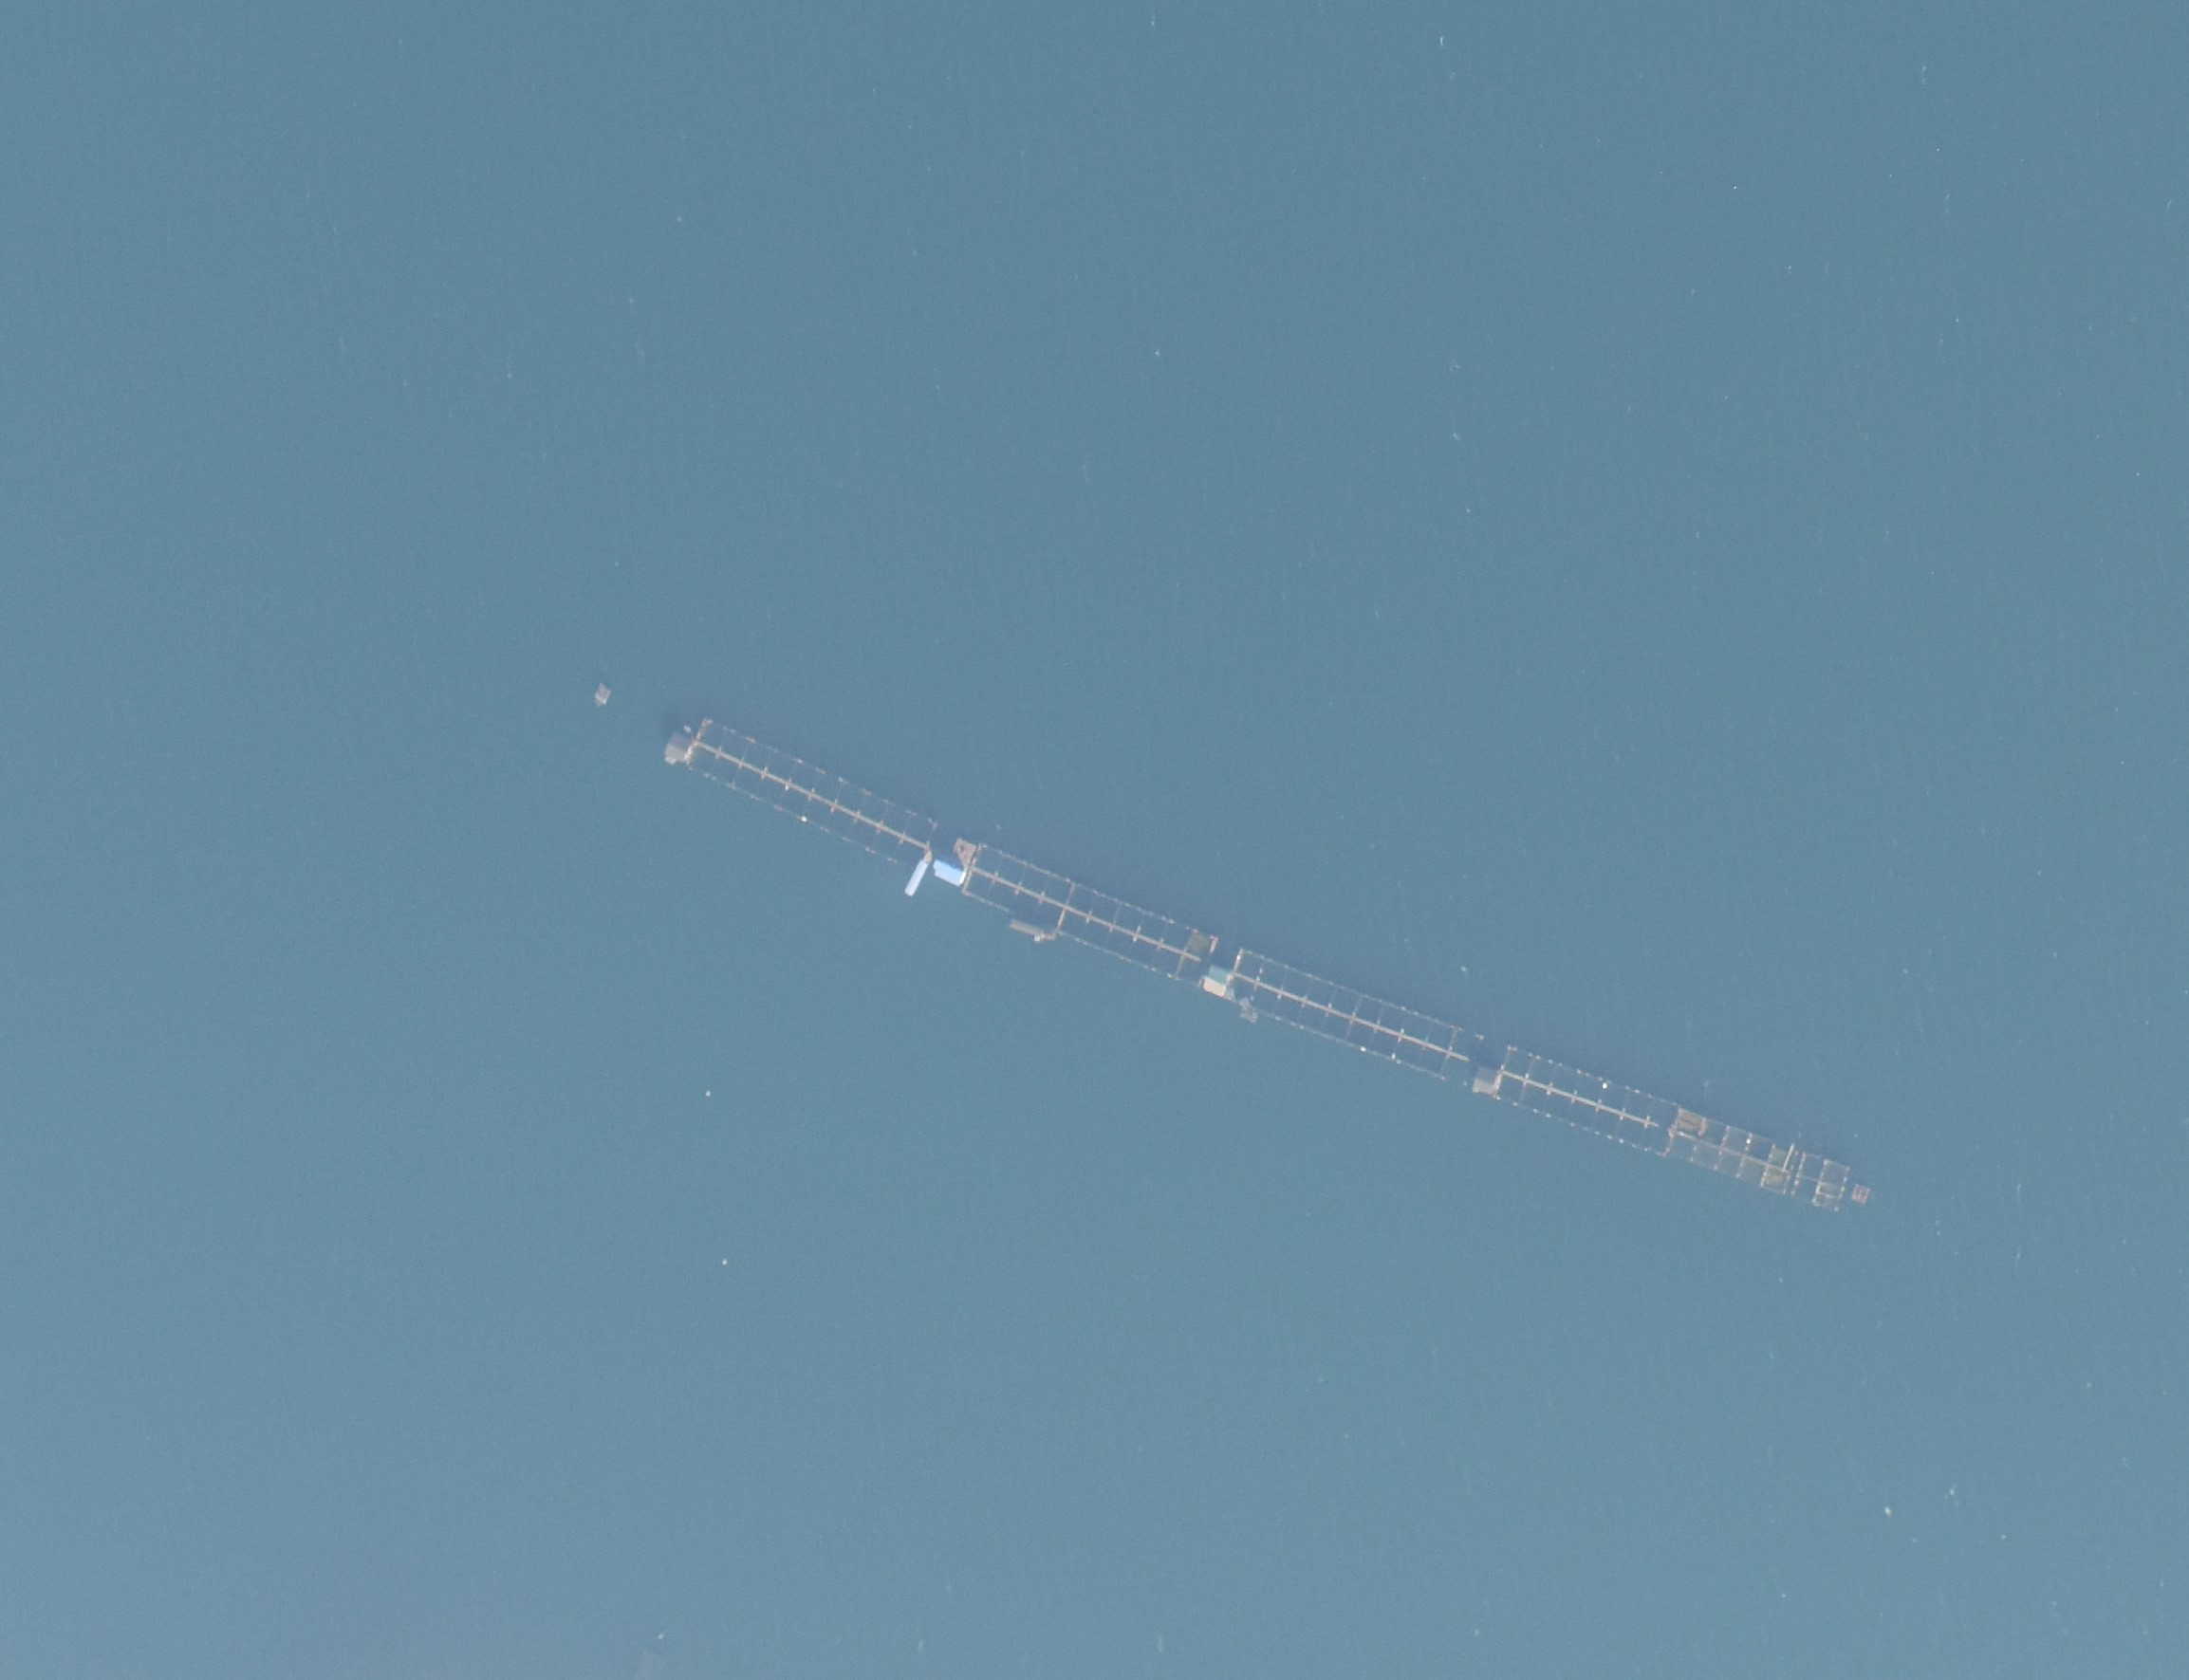cultivation-mesh-cage: (1488, 1038, 1882, 1265), (687, 713, 939, 879), (957, 844, 1218, 994), (1229, 944, 1486, 1089)
prefabricated-house: (1008, 914, 1056, 941), (906, 851, 934, 895), (1672, 1108, 1707, 1140), (1200, 964, 1234, 995), (664, 727, 690, 764), (934, 859, 966, 886), (1472, 1066, 1501, 1094), (593, 681, 613, 706), (1850, 1184, 1869, 1204)
